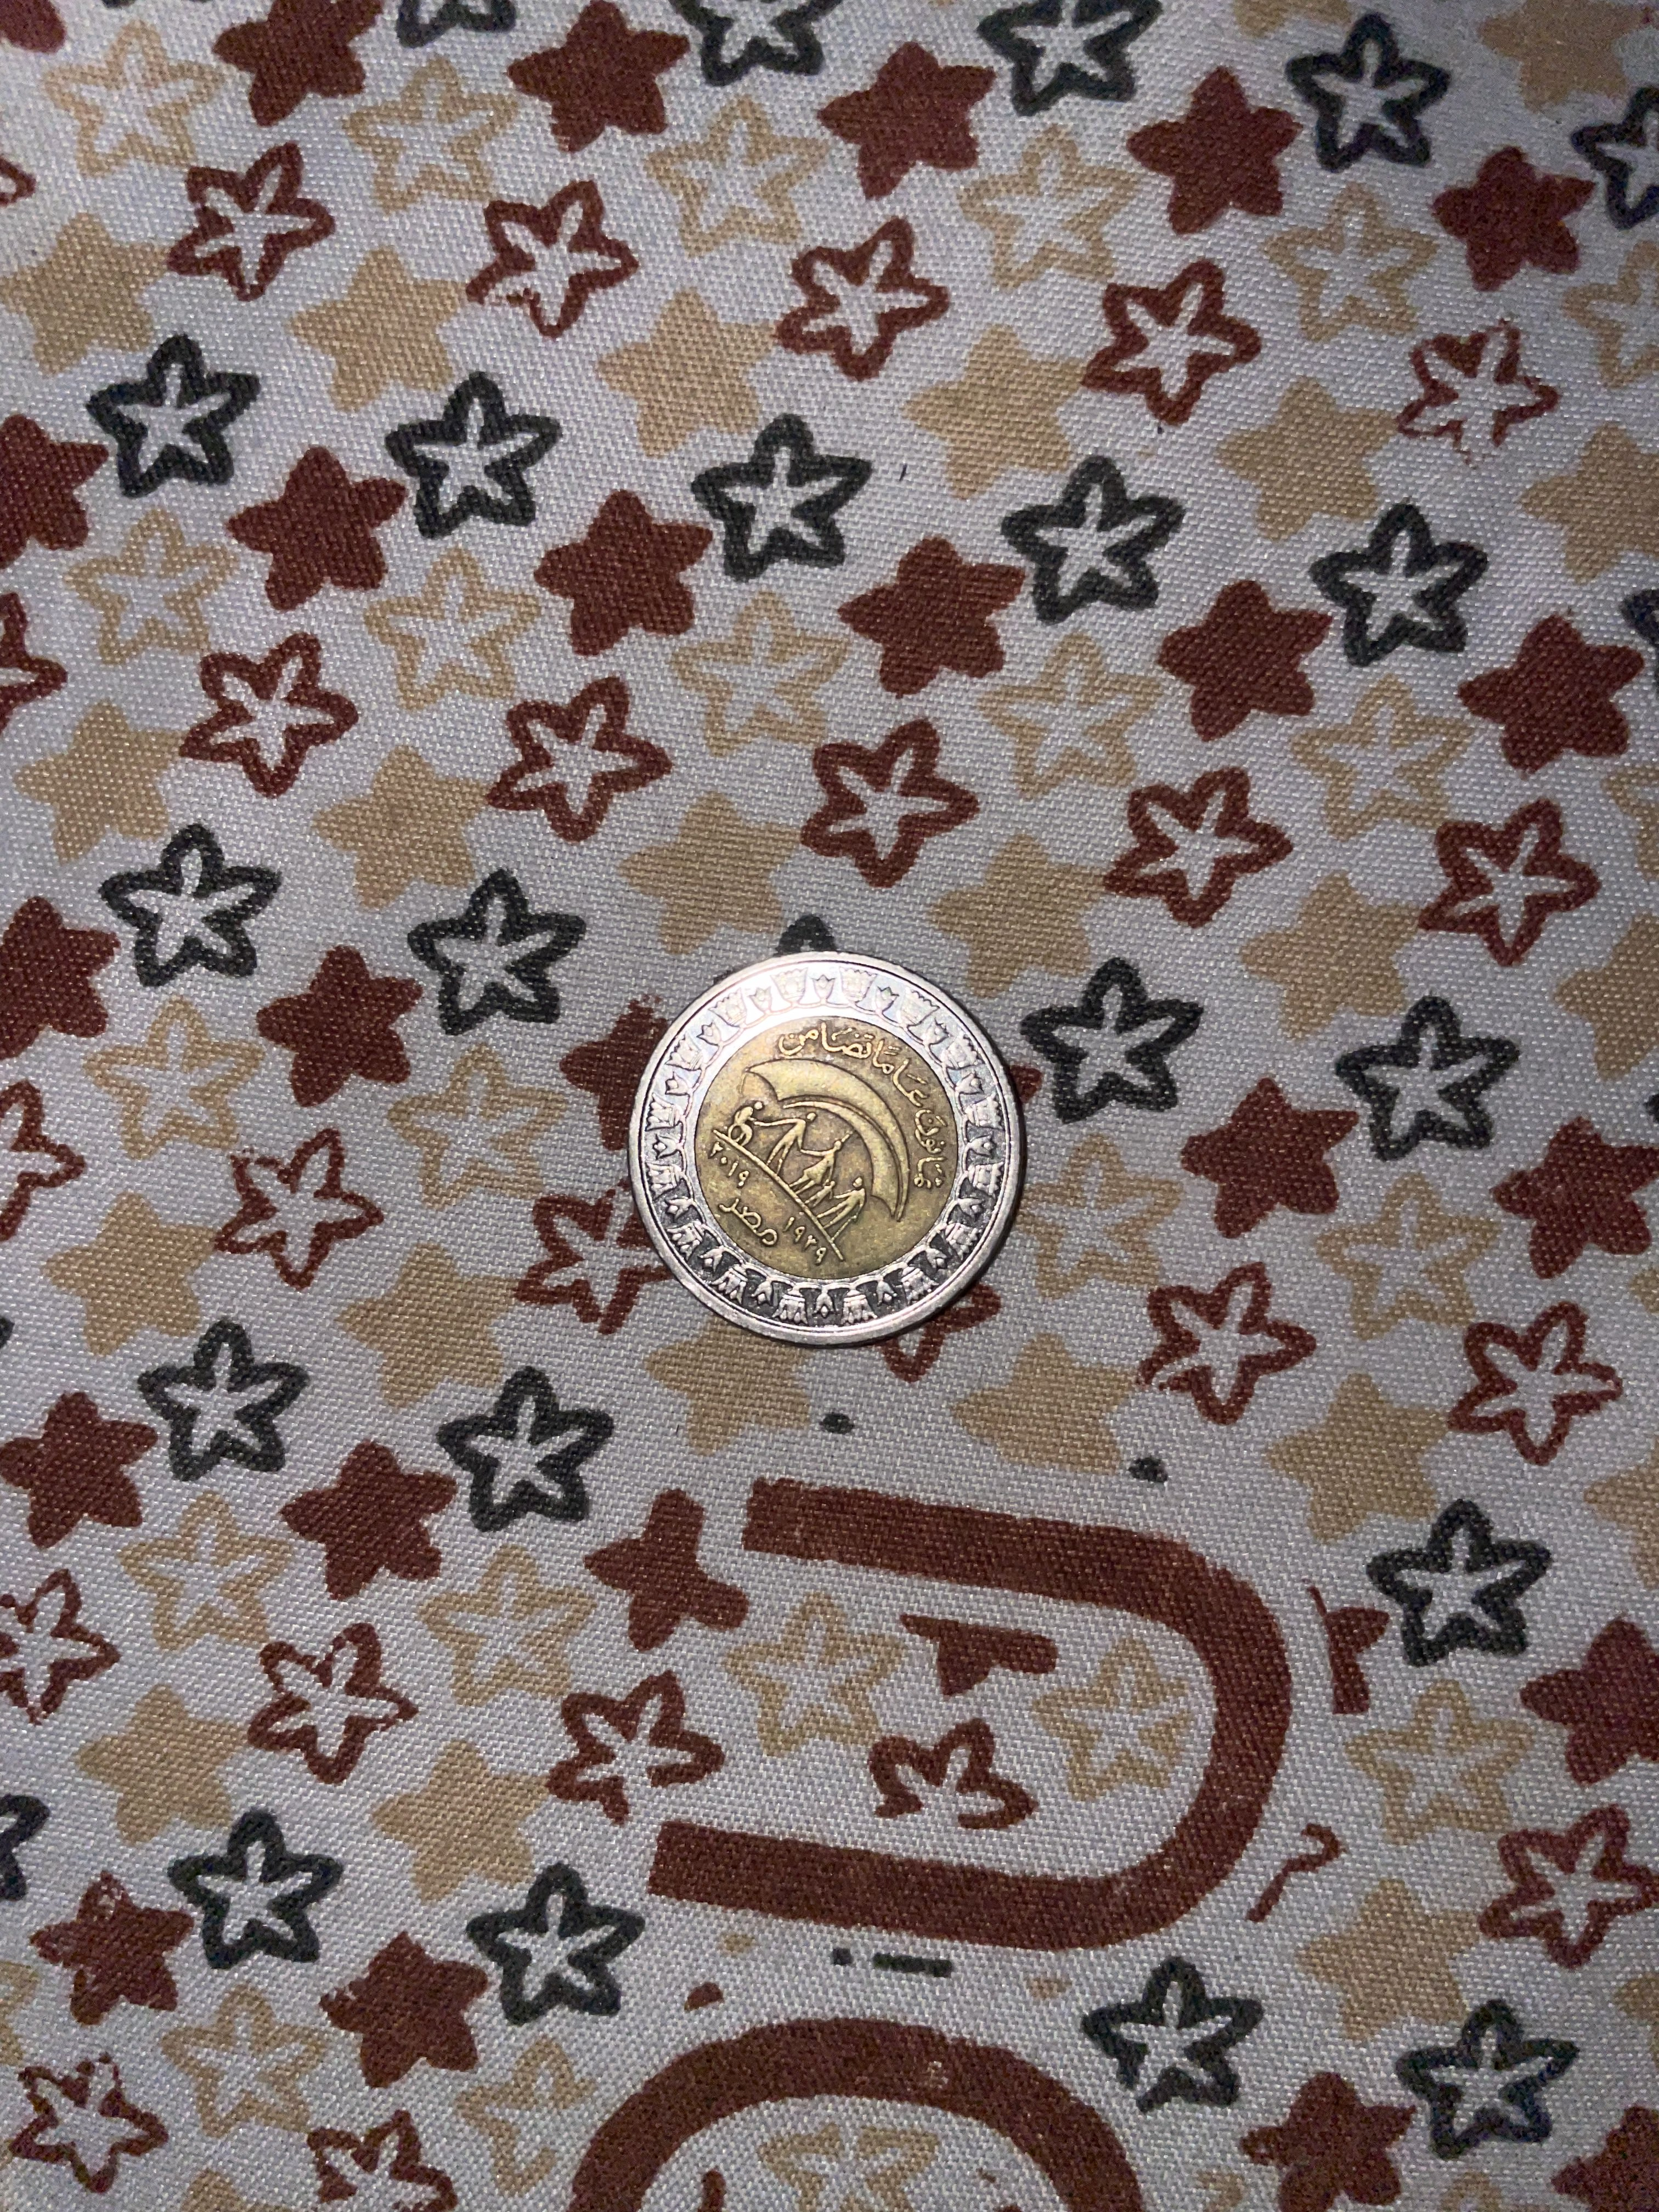one: (610, 946, 1040, 1362)
